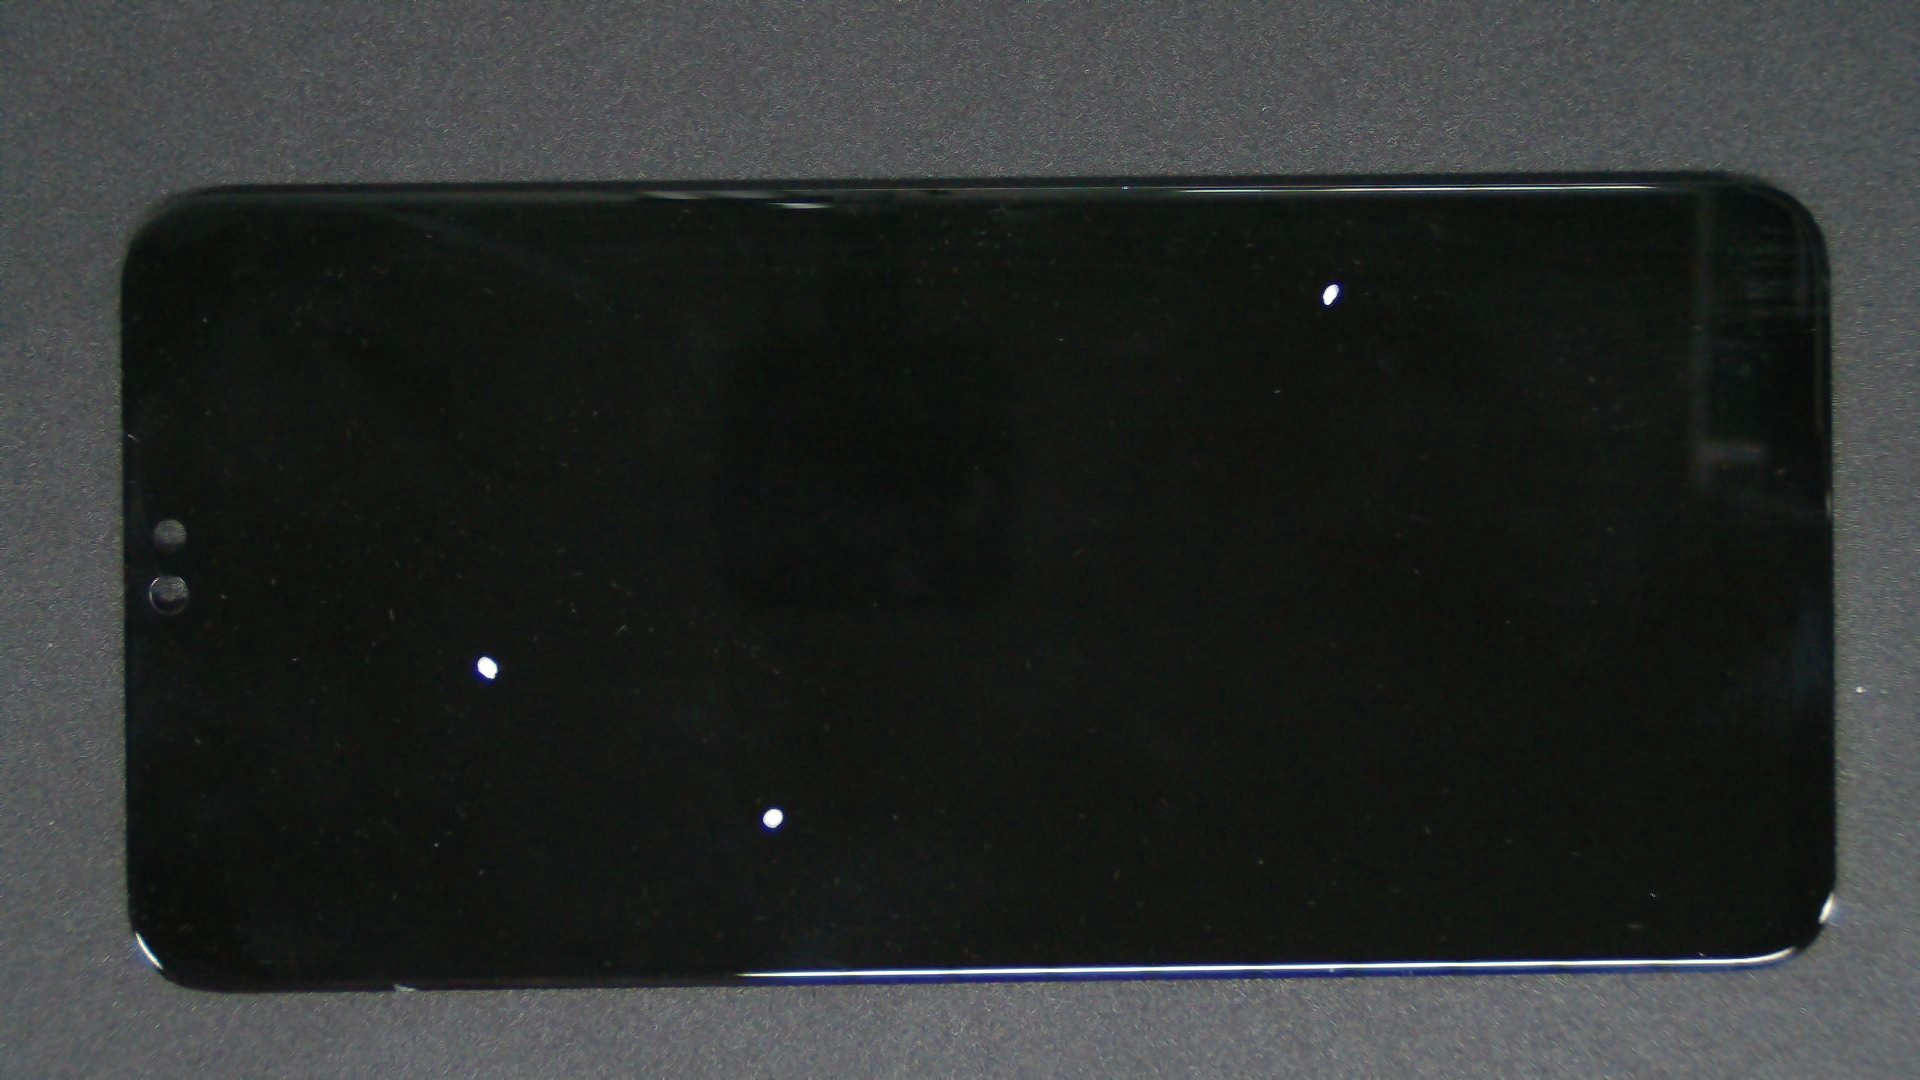oil: (385, 404, 1153, 1080), (666, 141, 1920, 425), (243, 327, 725, 981)
